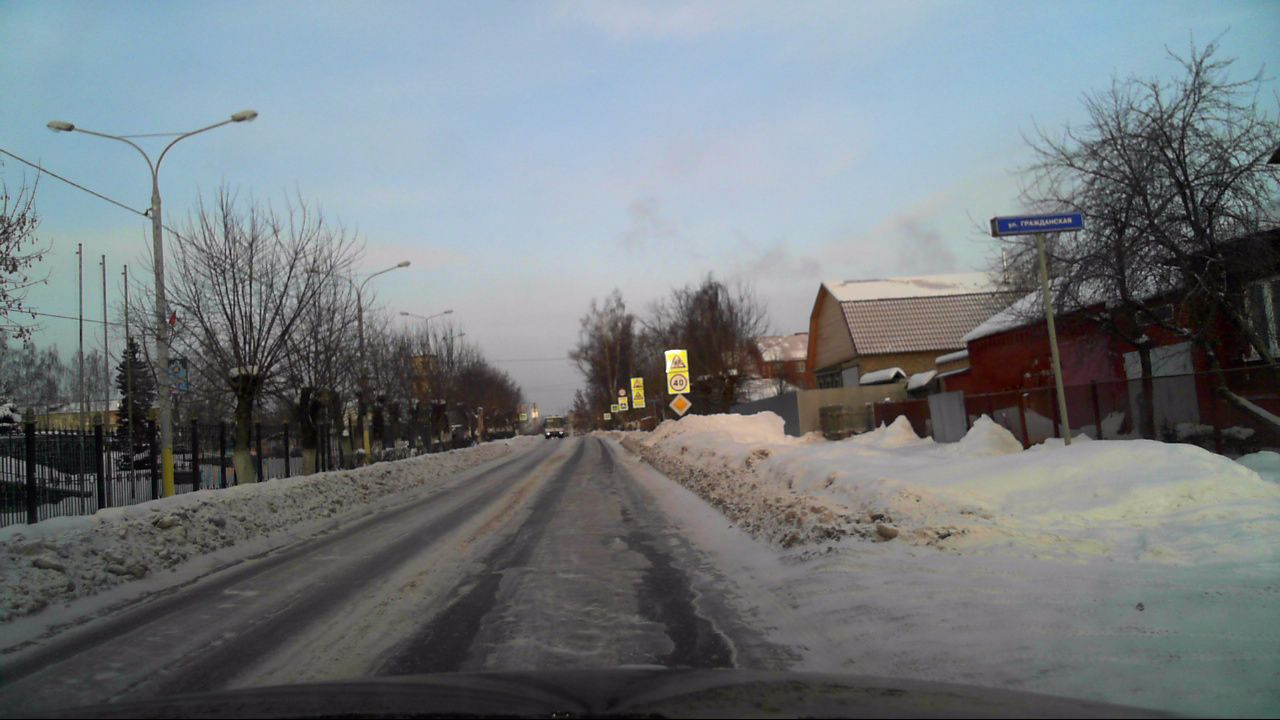speed_warning_40: (666, 372, 688, 393)
